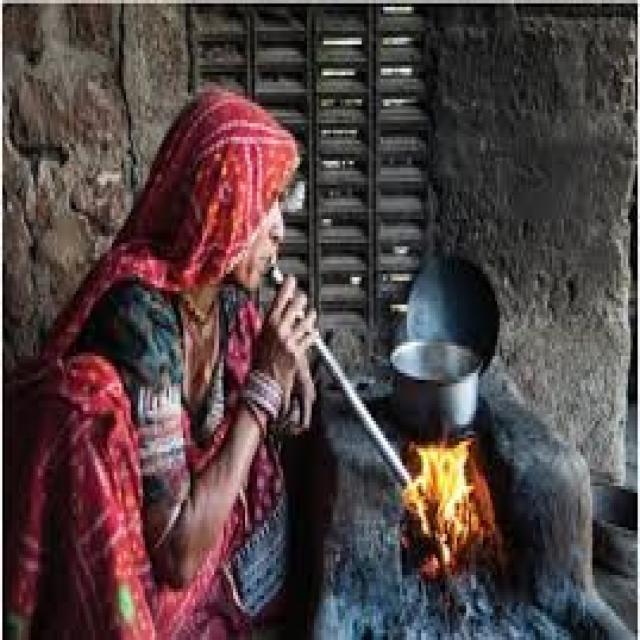fire: (401, 441, 502, 580)
